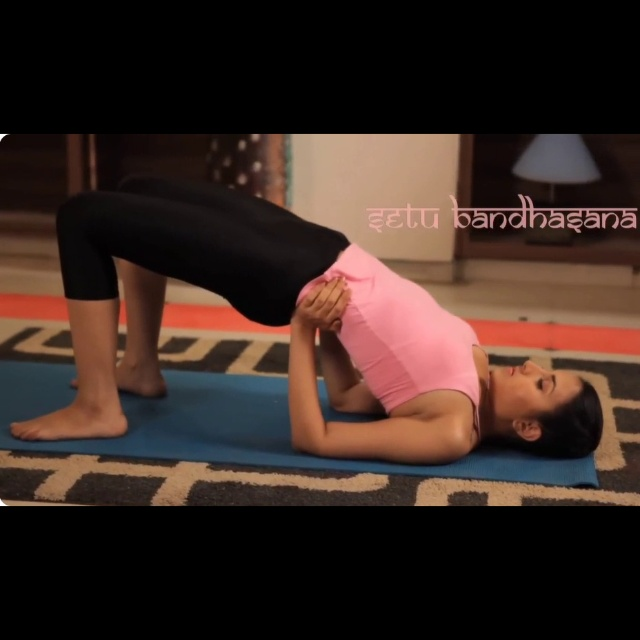Bridge_Pose: (10, 177, 610, 474)
